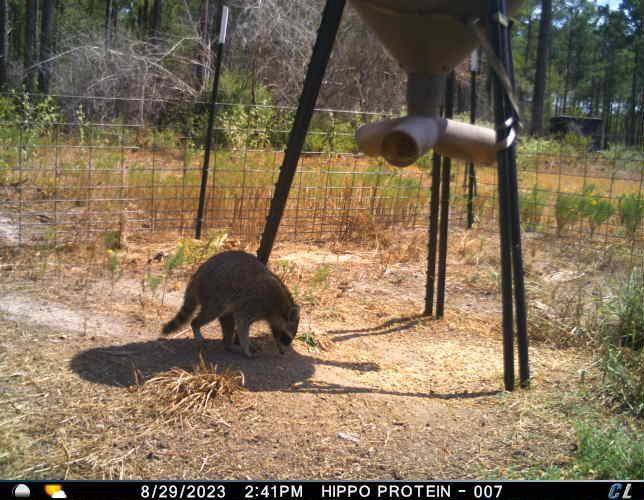Raccoon: (164, 248, 302, 357)
